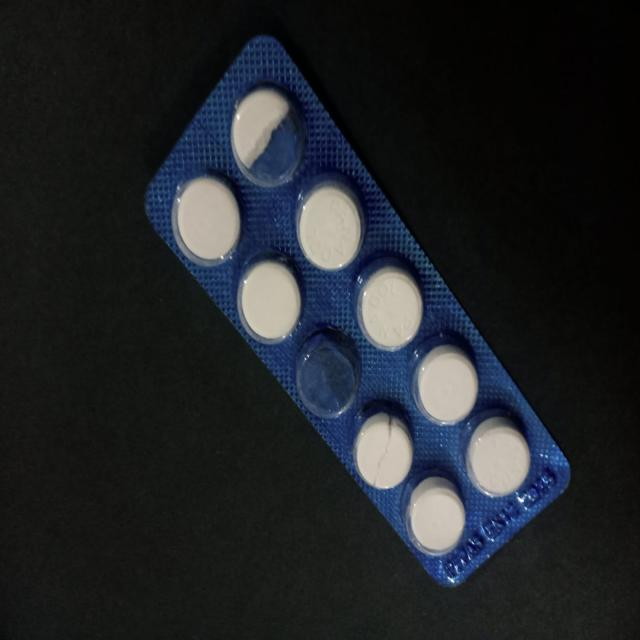defect: (231, 81, 310, 190), (294, 327, 359, 417), (356, 413, 416, 491)
